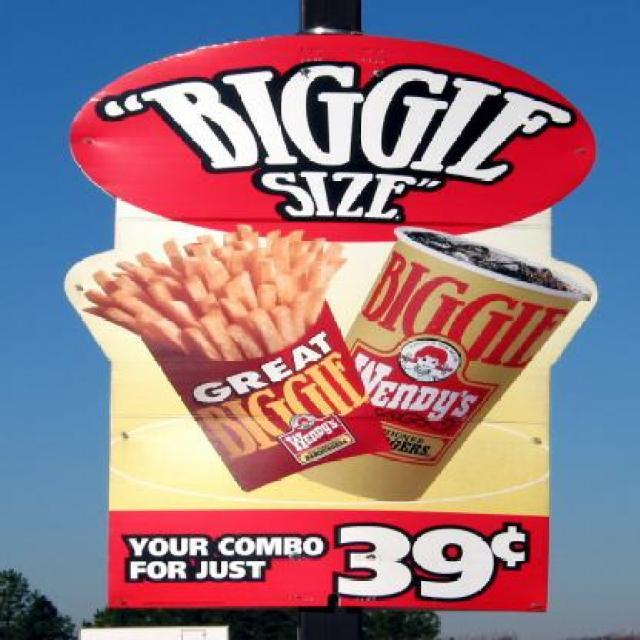French fries: (79, 225, 370, 358)
